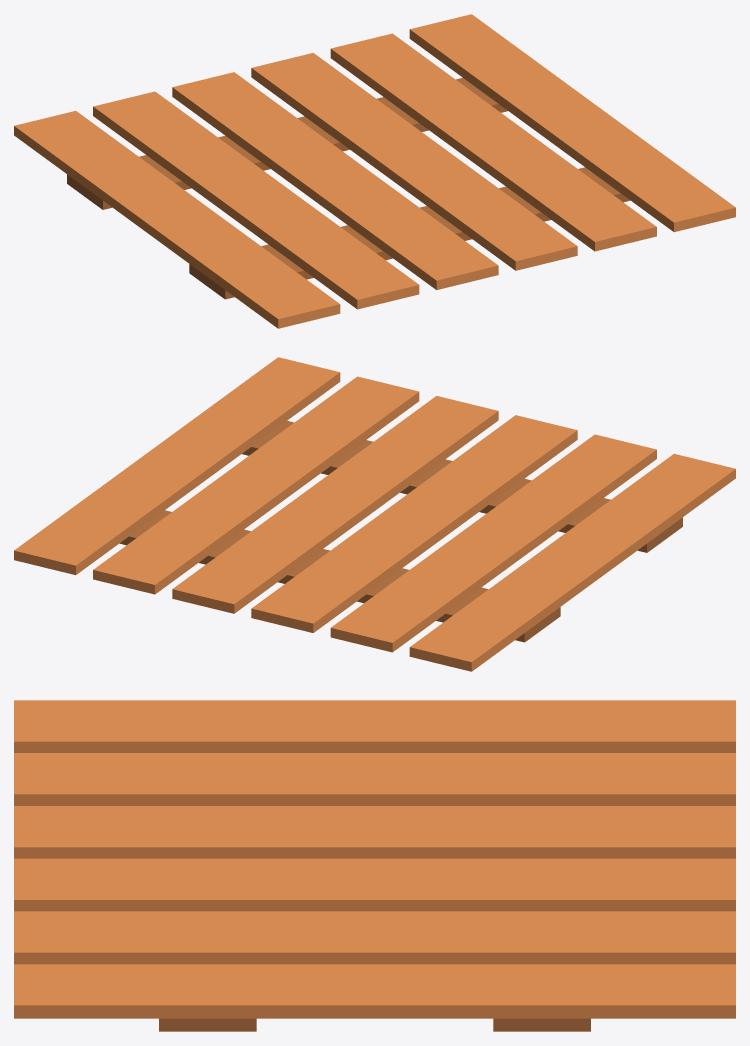
Rendered from plank.glb.
The picture shows the model from 3 angles, top to bottom: view 1: azimuth 30°, elevation 25°; view 2: azimuth 150°, elevation 25°; view 3: azimuth 270°, elevation 25°; orthographic projection. The views are drawn at different scales.
Parts seen in each view (by area): view 1: floor.001; view 2: floor.001; view 3: floor.001.
Part boxes in pixels (x1,y1,x2,y2): floor.001: [14, 14, 735, 328]; floor.001: [14, 357, 735, 671]; floor.001: [14, 700, 735, 1031].
Bounding box in the file's own units: 5 × 0.2 × 5.
